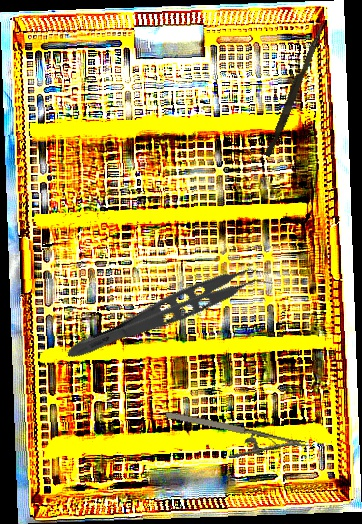Needle Holder: (159, 407, 311, 476)
Pusher: (264, 21, 325, 159)
Tissue Forceps: (63, 253, 275, 378)
